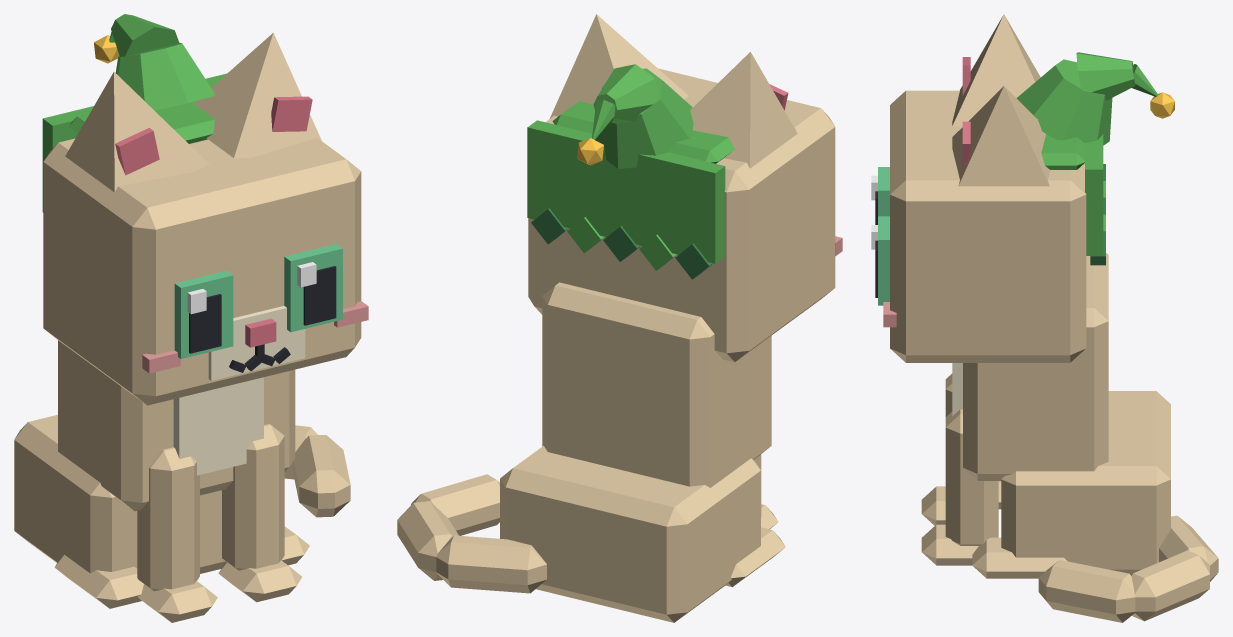
File: CatCafe_Cat_Elf_Sit.fbx
3 views of the same model, side by side, from view 1: azimuth 30°, elevation 25°; view 2: azimuth 150°, elevation 25°; view 3: azimuth 270°, elevation 25° (orthographic). The views are drawn at different scales.
Visible parts, largest first — view 1: CatCafe_Cat_Elf_Sit_Head, CatCafe_Cat_Elf_Sit_Body, CatCafe_Cat_Elf_Sit_Prop, CatCafe_Cat_Elf_Sit_LegF2, CatCafe_Cat_Elf_Sit_LegF1, CatCafe_Cat_Elf_Sit_EarL, CatCafe_Cat_Elf_Sit_EarR, CatCafe_Cat_Elf_Sit_Eye2, CatCafe_Cat_Elf_Sit_Eye1, CatCafe_Cat_Elf_Sit_Tail; view 2: CatCafe_Cat_Elf_Sit_Body, CatCafe_Cat_Elf_Sit_Head, CatCafe_Cat_Elf_Sit_Prop, CatCafe_Cat_Elf_Sit_Tail, CatCafe_Cat_Elf_Sit_EarR, CatCafe_Cat_Elf_Sit_EarL; view 3: CatCafe_Cat_Elf_Sit_Head, CatCafe_Cat_Elf_Sit_Body, CatCafe_Cat_Elf_Sit_Prop, CatCafe_Cat_Elf_Sit_Tail, CatCafe_Cat_Elf_Sit_EarL, CatCafe_Cat_Elf_Sit_LegF1, CatCafe_Cat_Elf_Sit_EarR, CatCafe_Cat_Elf_Sit_Eye1, CatCafe_Cat_Elf_Sit_LegF2, CatCafe_Cat_Elf_Sit_Eye2.
Part boxes in pixels (x1,y1,x2,y2): CatCafe_Cat_Elf_Sit_Head: (43,138,368,405); CatCafe_Cat_Elf_Sit_Body: (14,340,309,608); CatCafe_Cat_Elf_Sit_Prop: (42,14,226,212); CatCafe_Cat_Elf_Sit_LegF2: (137,447,217,622); CatCafe_Cat_Elf_Sit_LegF1: (218,424,302,602); CatCafe_Cat_Elf_Sit_EarL: (193,33,321,158); CatCafe_Cat_Elf_Sit_EarR: (65,72,209,192); CatCafe_Cat_Elf_Sit_Eye2: (174,270,233,358); CatCafe_Cat_Elf_Sit_Eye1: (284,244,342,332); CatCafe_Cat_Elf_Sit_Tail: (284,425,350,517); CatCafe_Cat_Elf_Sit_Body: (500,282,785,622); CatCafe_Cat_Elf_Sit_Head: (528,68,842,362); CatCafe_Cat_Elf_Sit_Prop: (527,64,734,279); CatCafe_Cat_Elf_Sit_Tail: (397,474,546,593); CatCafe_Cat_Elf_Sit_EarR: (690,52,797,168); CatCafe_Cat_Elf_Sit_EarL: (549,14,688,118); CatCafe_Cat_Elf_Sit_Head: (883,90,1086,362); CatCafe_Cat_Elf_Sit_Body: (952,253,1170,578); CatCafe_Cat_Elf_Sit_Prop: (1016,52,1174,265); CatCafe_Cat_Elf_Sit_Tail: (1038,515,1218,622); CatCafe_Cat_Elf_Sit_EarL: (952,86,1050,186); CatCafe_Cat_Elf_Sit_LegF1: (921,409,998,565); CatCafe_Cat_Elf_Sit_EarR: (952,14,1040,126); CatCafe_Cat_Elf_Sit_Eye1: (871,216,889,305); CatCafe_Cat_Elf_Sit_LegF2: (921,373,952,525); CatCafe_Cat_Elf_Sit_Eye2: (871,167,889,224).
Size of the model in its own units: 1.24 by 1.93 by 1.24.
Materials: 1 (1 with a texture image).
